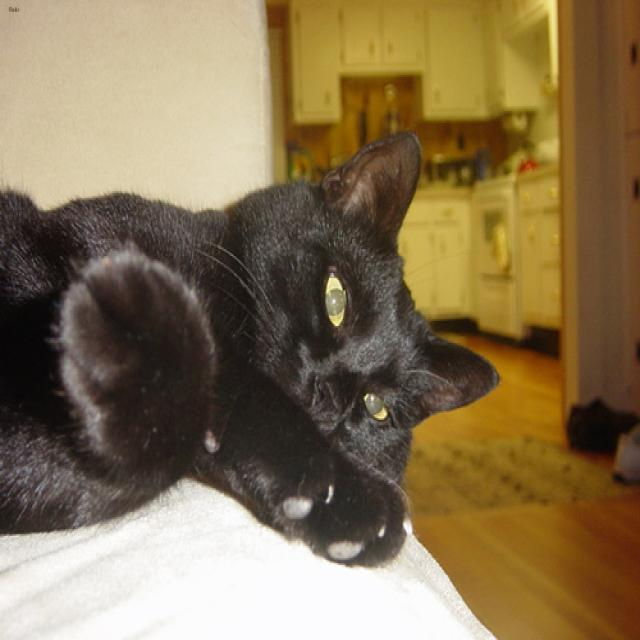Bombay: (219, 107, 510, 483)
